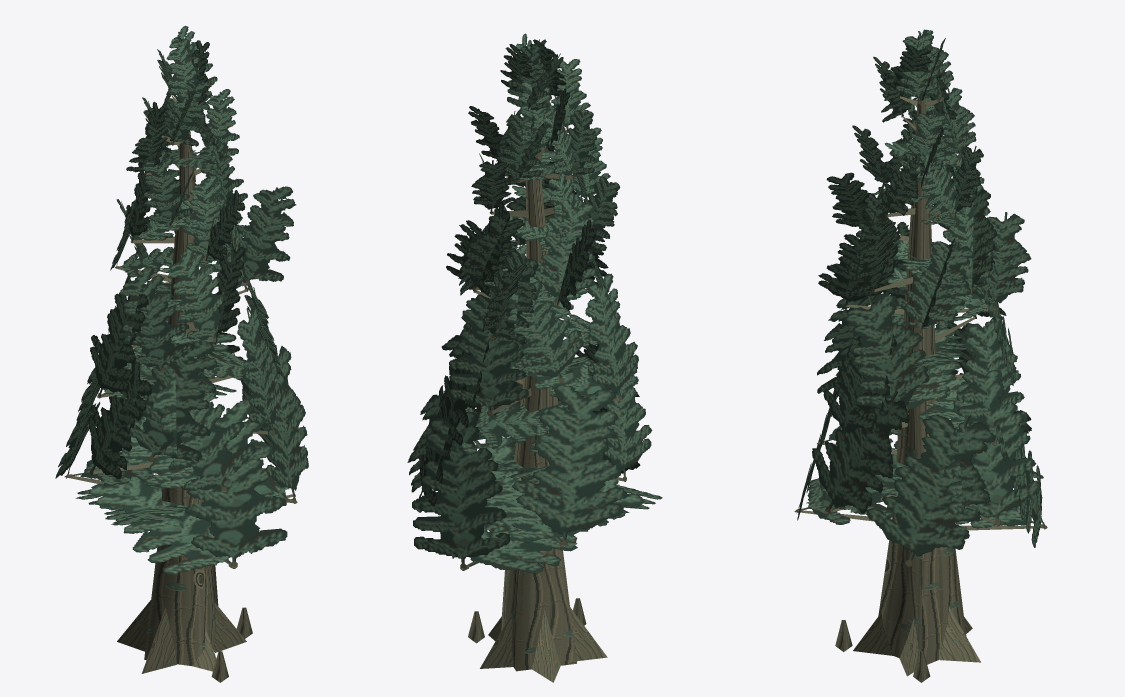
File: delta-cypress-mobile.glb
3 views of the same model, side by side, from view 1: azimuth 30°, elevation 25°; view 2: azimuth 150°, elevation 25°; view 3: azimuth 270°, elevation 25° (orthographic).
Parts seen in each view (by area): view 1: Delta cypress mobile v3 runtime; view 2: Delta cypress mobile v3 runtime; view 3: Delta cypress mobile v3 runtime.
Boxes of the visible parts, <box> form: Delta cypress mobile v3 runtime: <box>55,25,308,682</box>; Delta cypress mobile v3 runtime: <box>407,33,662,682</box>; Delta cypress mobile v3 runtime: <box>794,29,1047,682</box>.
Size of the model in its own units: 5.53 by 10.87 by 5.72.
Materials: 1 (1 with a texture image).
